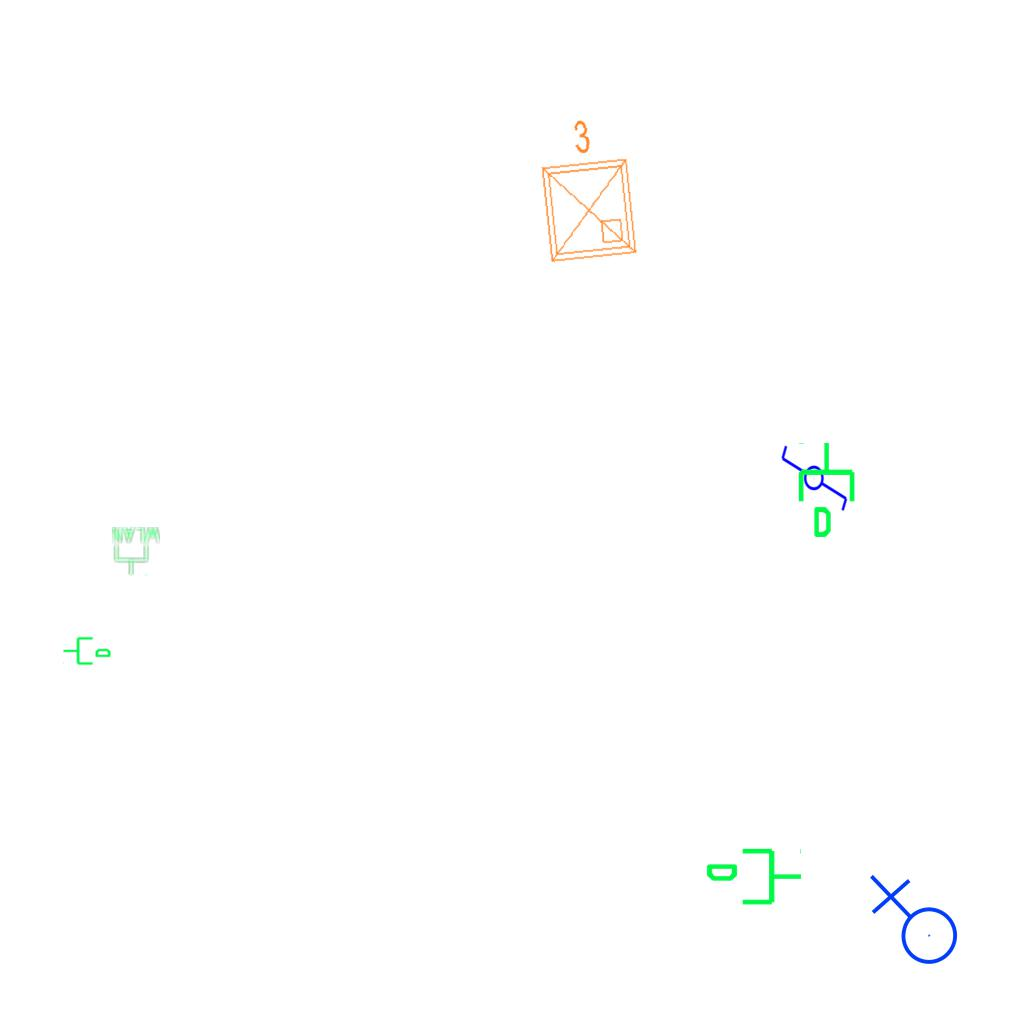Datenanschluss_einfach: (704, 844, 804, 913), (794, 440, 863, 540), (62, 633, 112, 667)
Einbaudownlights_LED_Konferenzraeume: (525, 109, 645, 271)
Elektroanschluss_allgemein_230V_Geraeteanschlussdose_230V: (865, 874, 959, 973)
WLAN: (110, 525, 162, 577)
Wechselschalter: (779, 435, 851, 513)
